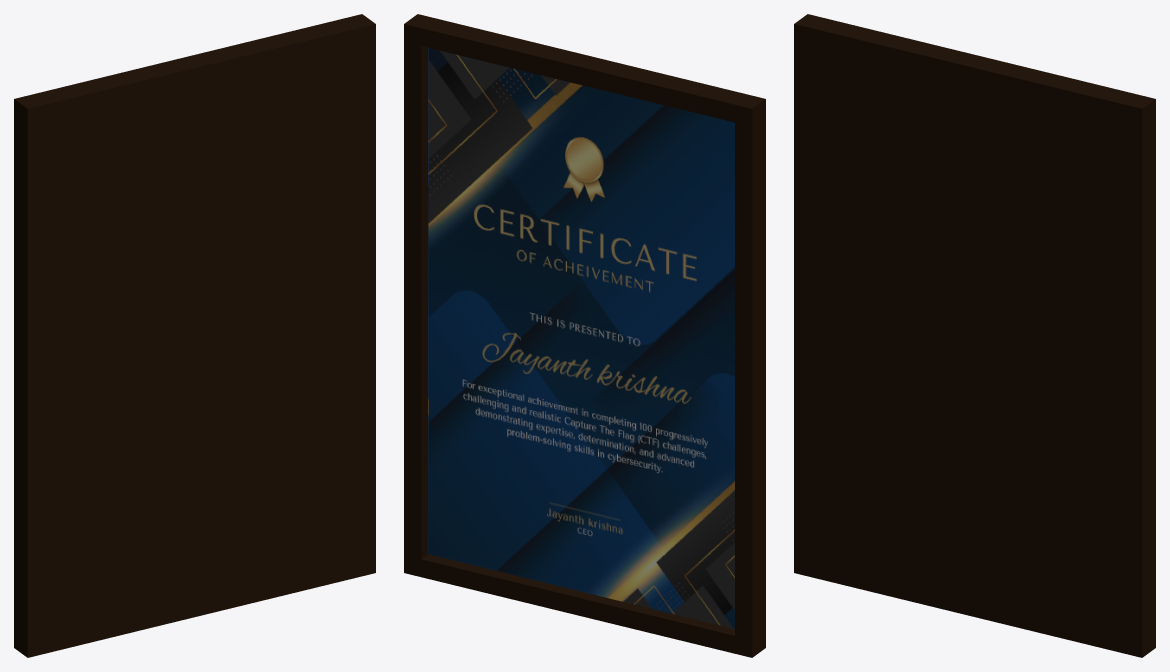
File: certficitat.glb
3 renders of one model, left to right at view 1: azimuth 30°, elevation 25°; view 2: azimuth 150°, elevation 25°; view 3: azimuth 330°, elevation 25°, orthographic.
Parts seen in each view (by area): view 1: Plane; view 2: Plane; view 3: Plane.
Boxes of the visible parts, x1,y1,x2,y2 form: Plane: (14, 14, 375, 657); Plane: (404, 14, 765, 657); Plane: (794, 14, 1155, 657).
Size of the model in its own units: 1.33 by 2 by 0.0899.
Materials: 2 (1 with a texture image).
